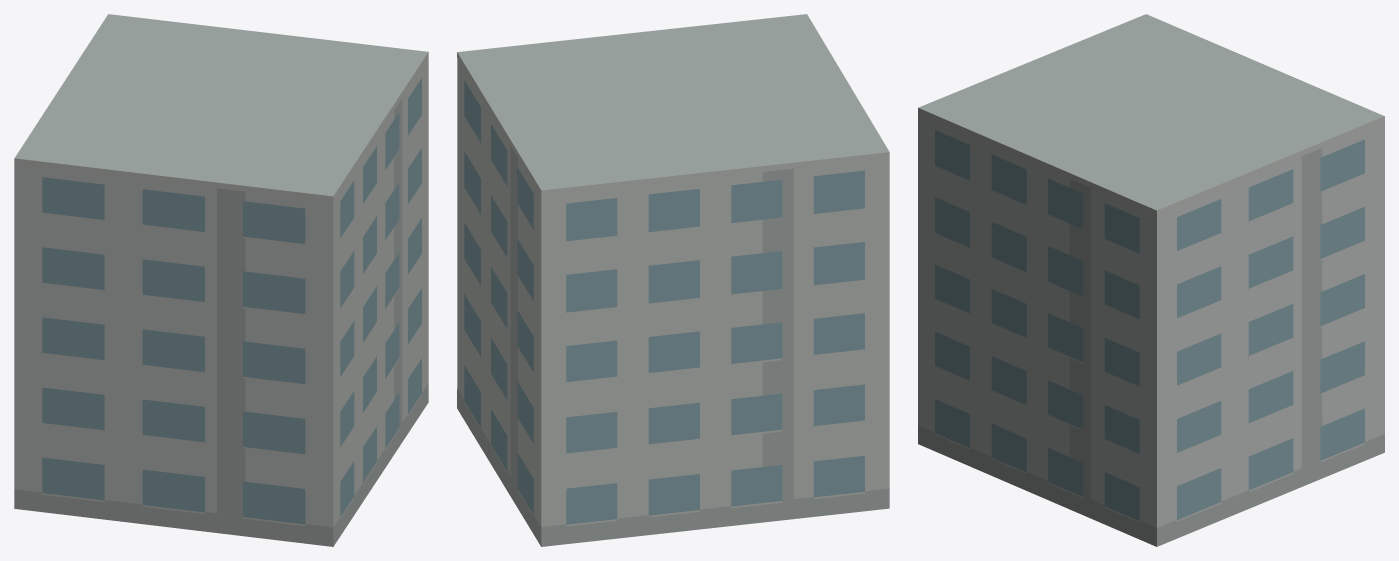
The model's file is survey-upis-33006930.glb.
3 renders of one model, left to right at view 1: azimuth 30°, elevation 25°; view 2: azimuth 150°, elevation 25°; view 3: azimuth 270°, elevation 25°, orthographic. The views are drawn at different scales.
Parts seen in each view (by area): view 1: survey-upis-33006930.tmp; view 2: survey-upis-33006930.tmp; view 3: survey-upis-33006930.tmp.
Boxes of the visible parts, left/top/right/bottom form: survey-upis-33006930.tmp: left=14, top=14, right=428, bottom=546; survey-upis-33006930.tmp: left=457, top=14, right=889, bottom=546; survey-upis-33006930.tmp: left=918, top=14, right=1384, bottom=546.
Size of the model in its own units: 18.31 by 14.6 by 18.37.
